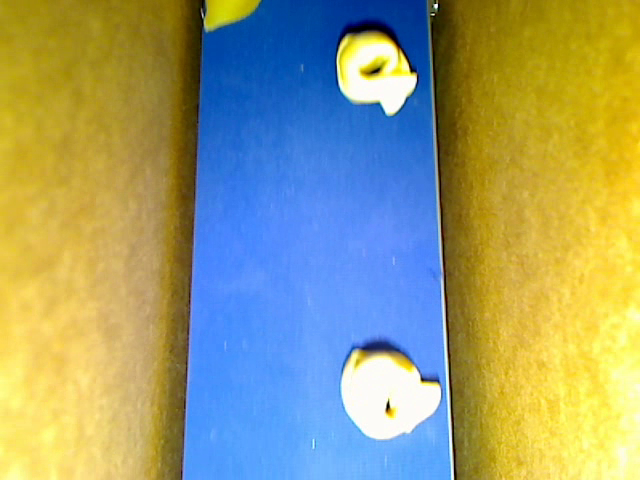shell: (203, 1, 259, 33)
tortellini: (341, 348, 440, 440), (336, 31, 418, 115)
